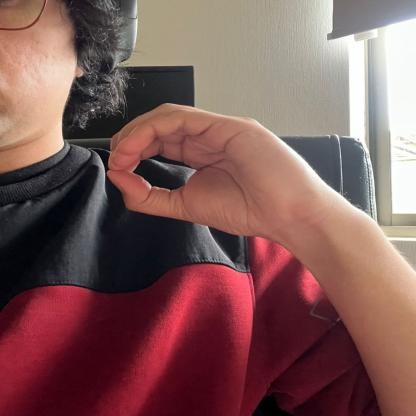O: (99, 99, 323, 250)
